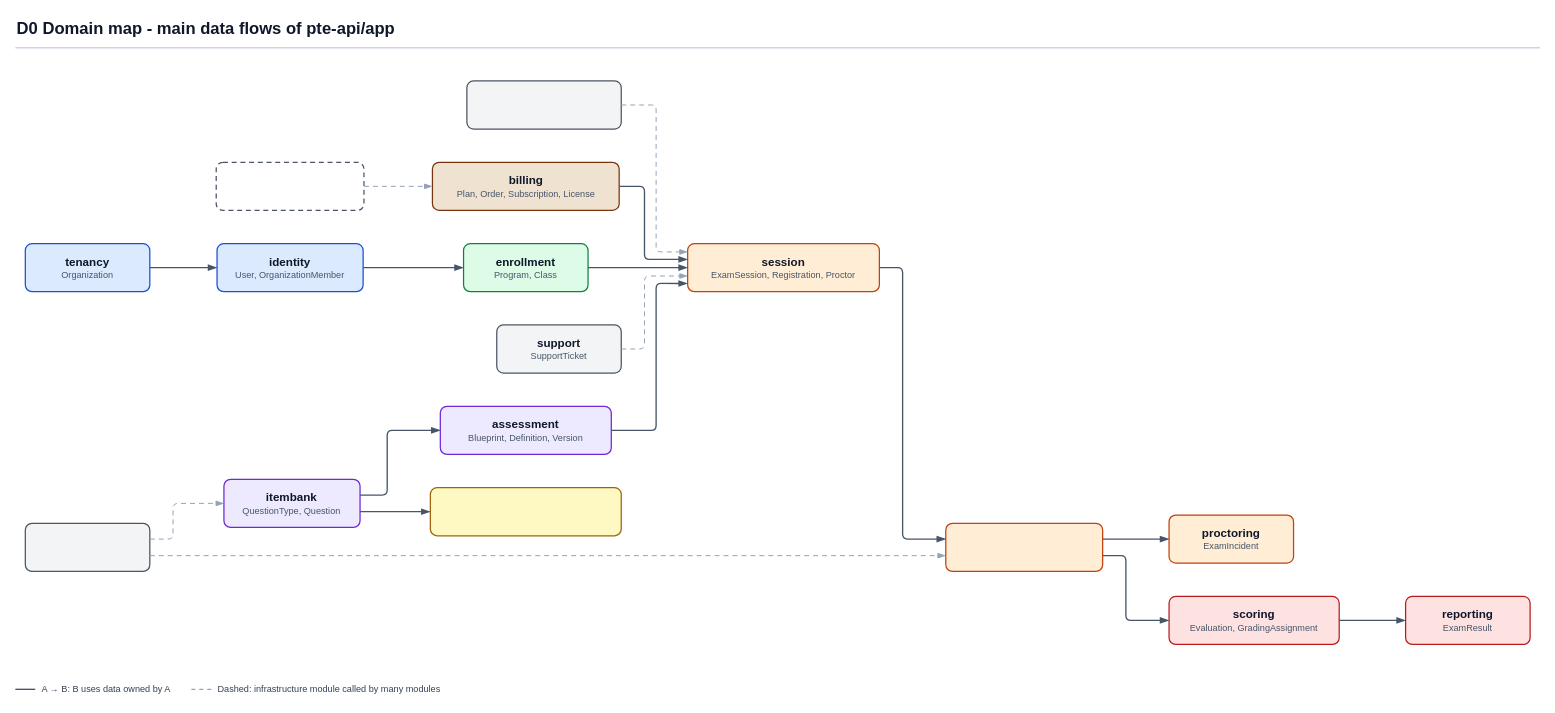
The diagram is 1555 pixels wide and 713 high, and some of its shapes have lost their labels. The shapes that lost their labels are listed below. From the top down, each one's centre as x and y in pixels, then its label:
At (x=544, y=104): "notification Notification, Announcement".
At (x=289, y=186): "shared AuditLog, IdempotencyKey".
At (x=525, y=511): "practice PracticeSession, PracticeResponse".
At (x=87, y=547): "media MediaAsset".
At (x=1024, y=547): "attempt ExamAttempt, AttemptAnswer".
